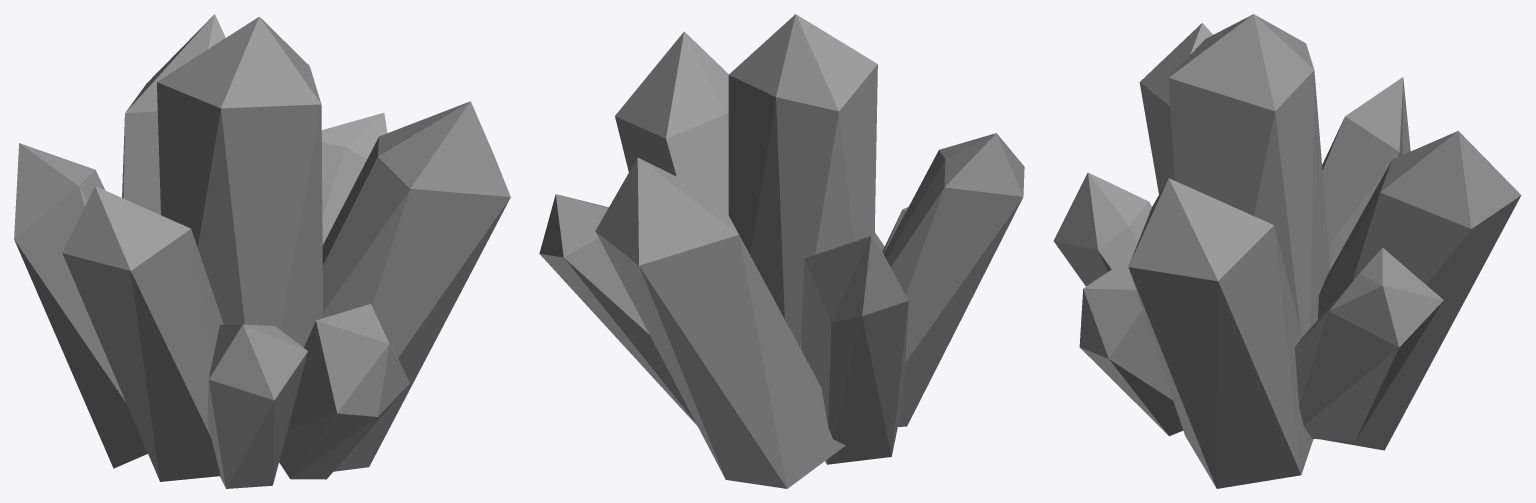
Rendered from lightgray_crystal_block.obj.
The picture shows the model from 3 angles, left to right: view 1: azimuth 30°, elevation 25°; view 2: azimuth 150°, elevation 25°; view 3: azimuth 270°, elevation 25°; orthographic projection. The views are drawn at different scales.
Parts seen in each view (by area): view 1: Icosphere.036_Icosphere.037; view 2: Icosphere.036_Icosphere.037; view 3: Icosphere.036_Icosphere.037.
Boxes of the visible parts, x1,y1,x2,y2 form: Icosphere.036_Icosphere.037: (14, 14, 510, 488); Icosphere.036_Icosphere.037: (539, 14, 1024, 488); Icosphere.036_Icosphere.037: (1053, 14, 1521, 488).
Bounding box in the file's own units: 1.01 × 1.01 × 0.9894.
